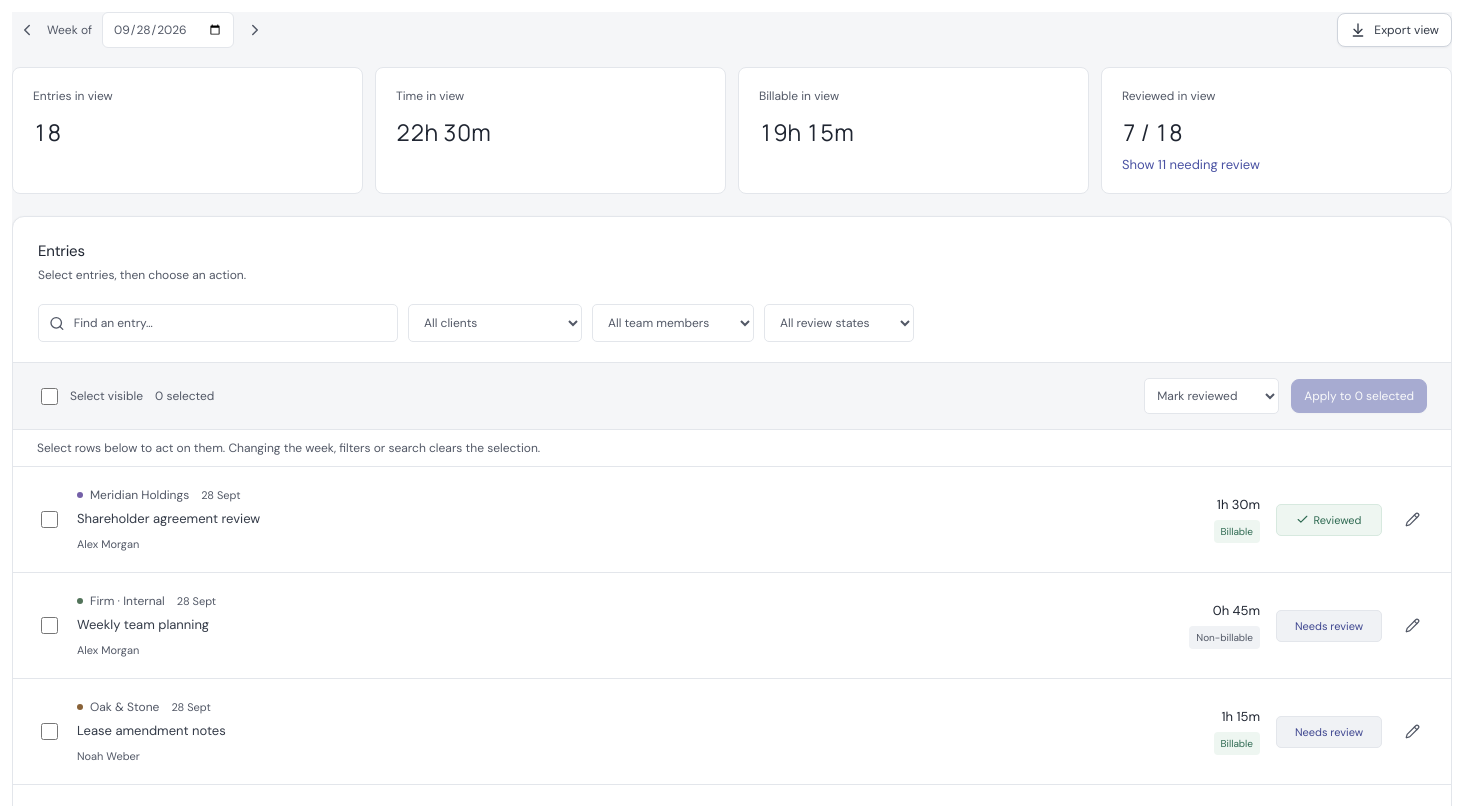
Test: Weekly review › clears and announces the selection when the view changes
Click the checkbox named "Select visible entries": (50, 396) [41,388,58,404]
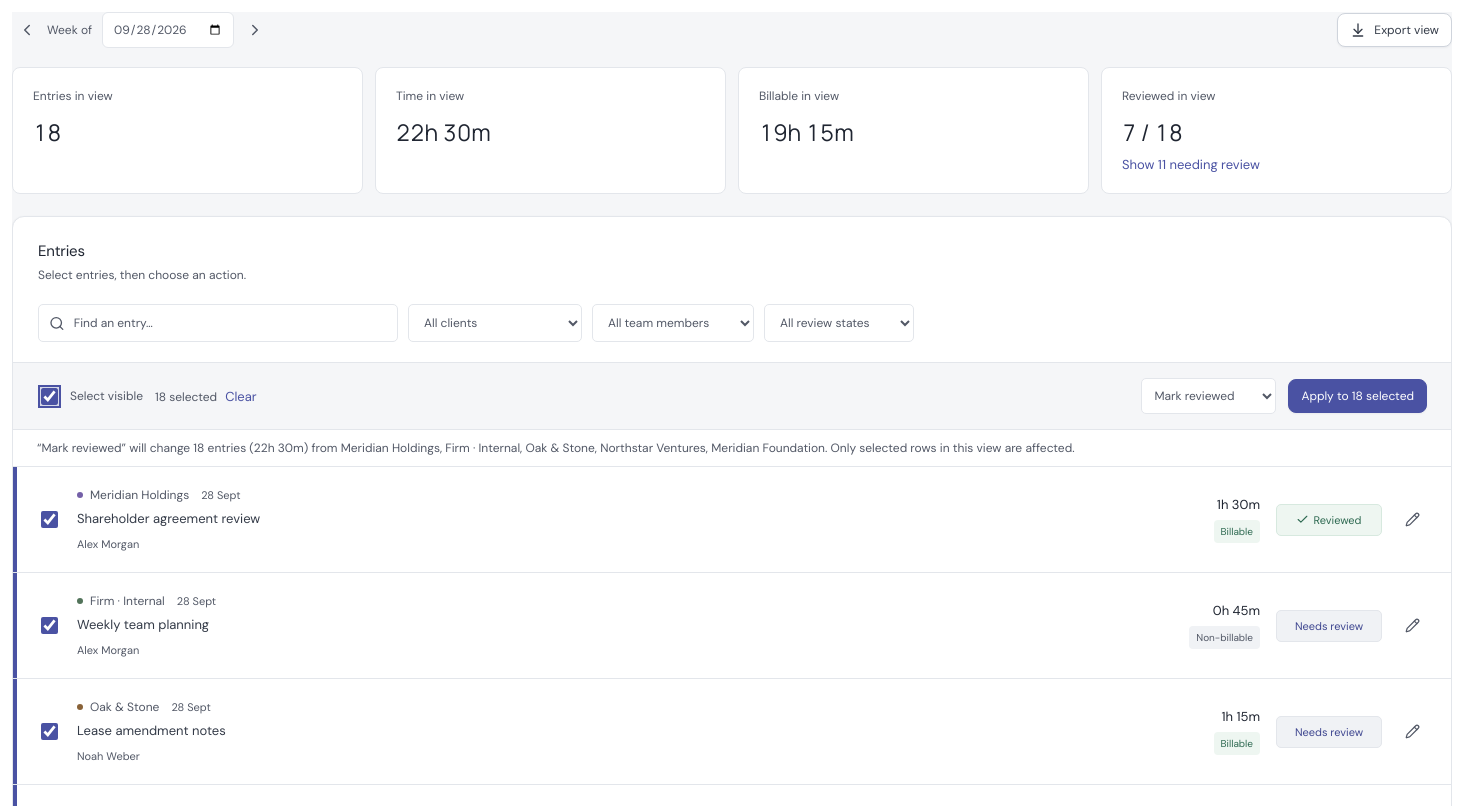
Expected: the element with class "selection-count" shows "18 selected", [155,388,257,404]
Select "Oak & Stone" in the dropdown named "Review client": (495, 323) [408,304,582,342]
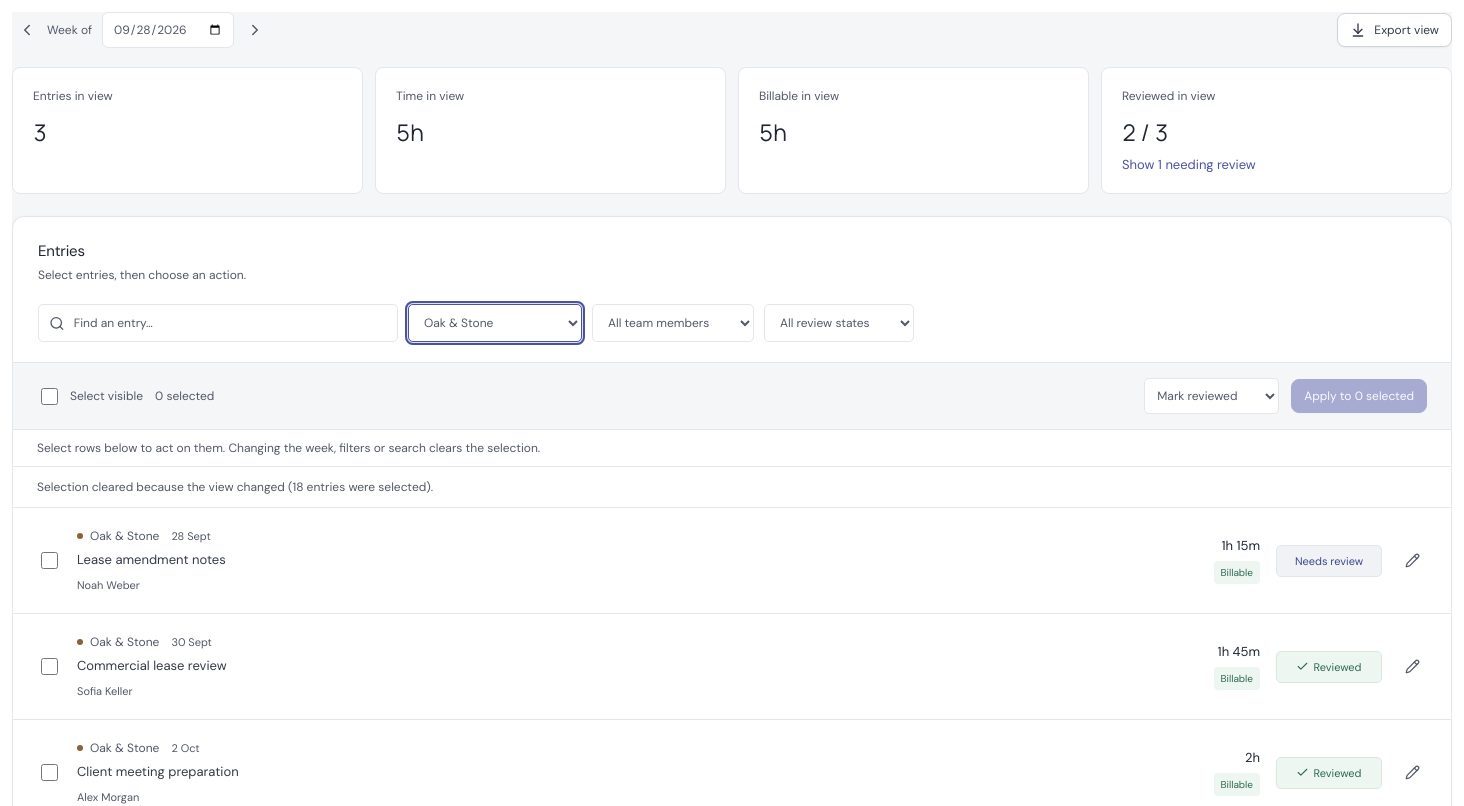
Expected: the text with class "selection-count" reads "0 selected", [155,388,214,404]
Expected: the text "Selection cleared because the view changed" is shown, [37,479,433,495]
Expected: the button "Apply to 0 selected" is disabled, [1291,379,1427,413]
